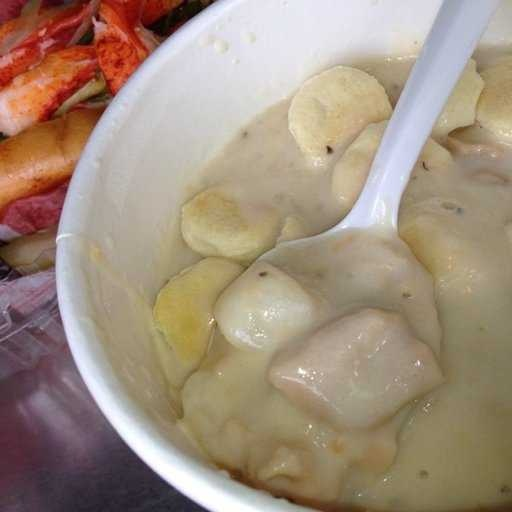soup: (143, 33, 512, 508)
